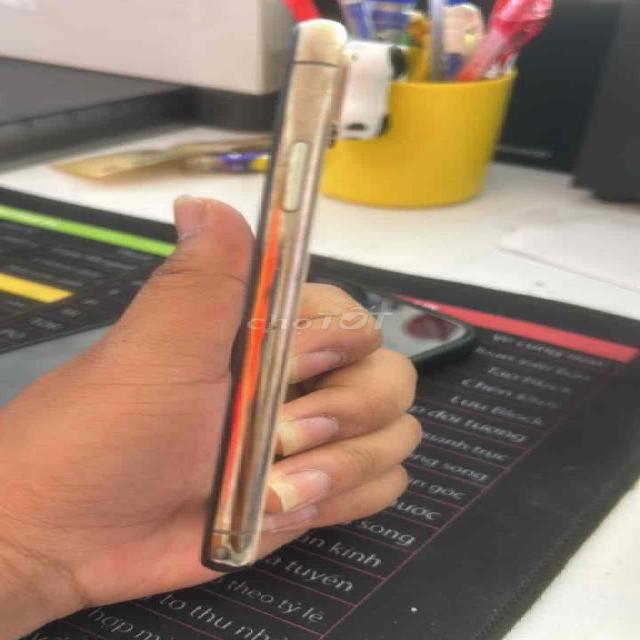gen_x_xs: (201, 19, 347, 571)
